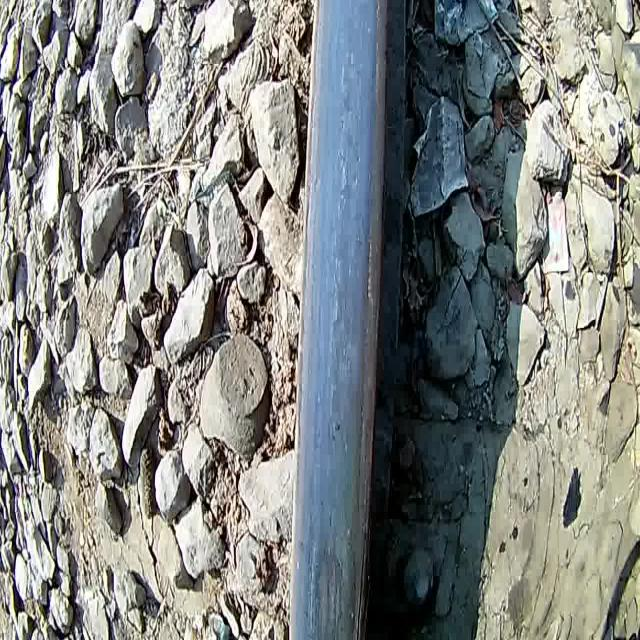Squats: (262, 0, 416, 640)
